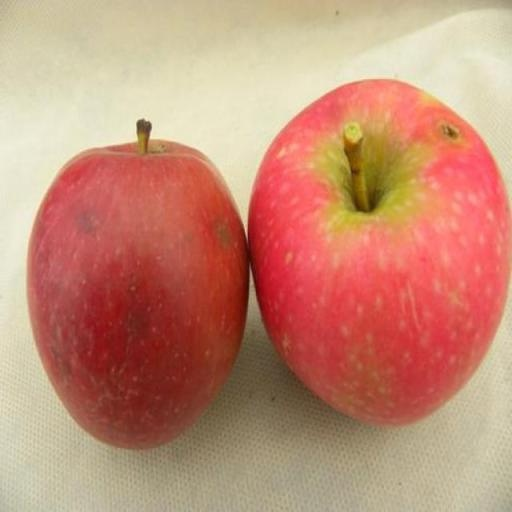fruit: (248, 80, 511, 424), (27, 121, 247, 447)
